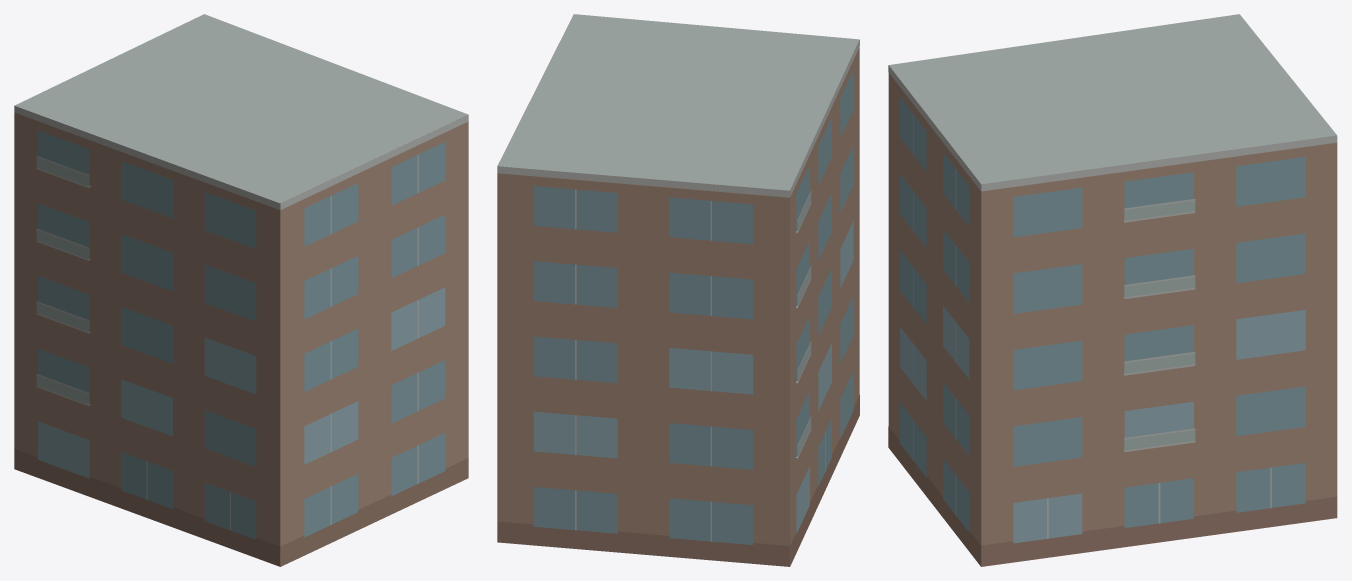
The model's file is survey-upis-32860767.glb.
The picture shows the model from 3 angles, left to right: view 1: azimuth 30°, elevation 25°; view 2: azimuth 150°, elevation 25°; view 3: azimuth 270°, elevation 25°; orthographic projection. The views are drawn at different scales.
Parts seen in each view (by area): view 1: survey-upis-32860767.tmp; view 2: survey-upis-32860767.tmp; view 3: survey-upis-32860767.tmp.
Part boxes in pixels (x1,y1,x2,y2): survey-upis-32860767.tmp: (14,14,468,566); survey-upis-32860767.tmp: (497,14,859,566); survey-upis-32860767.tmp: (888,14,1337,566).
Bounding box in the file's own units: 12.52 × 13.1 × 13.94.
